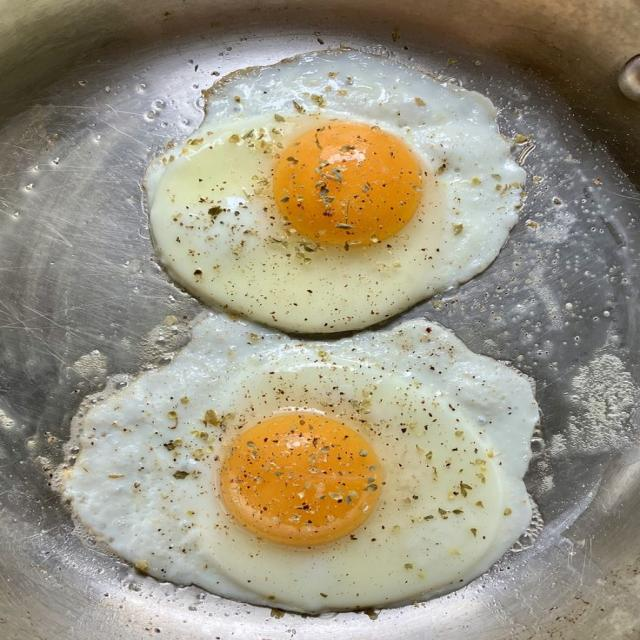fryed egg: (62, 316, 538, 612), (146, 50, 525, 332)
